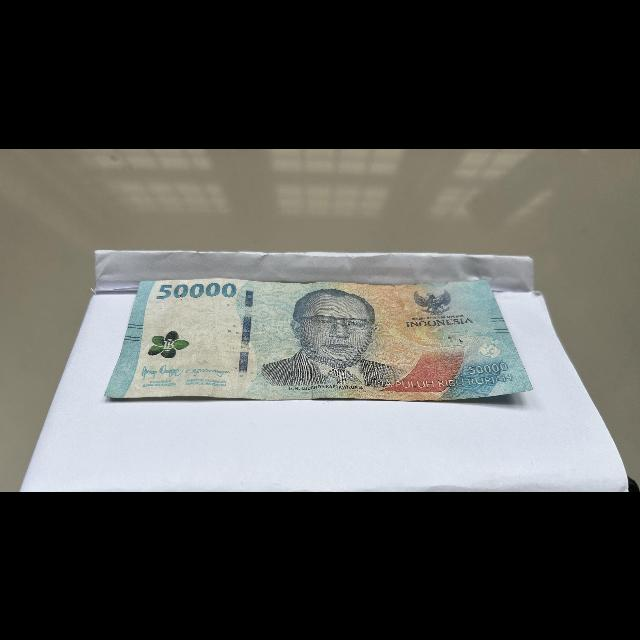Palsu-50k: (101, 276, 540, 401)
Tinta-Palsu-50k: (146, 328, 193, 360)
